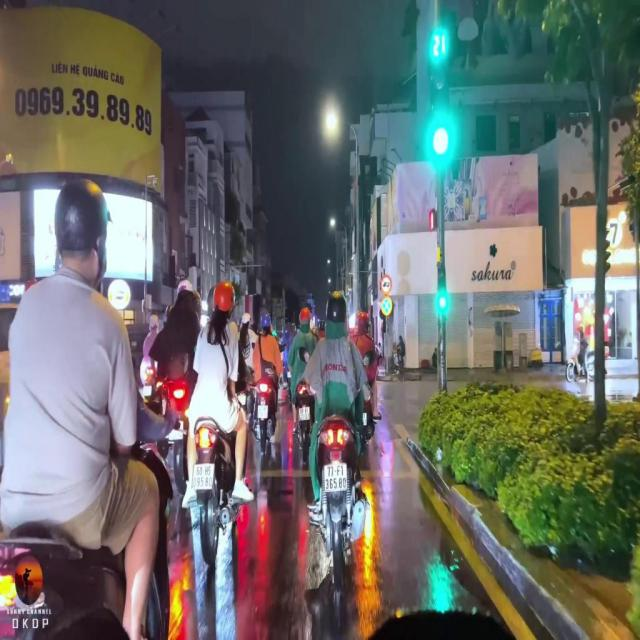cam_dung_xe_va_do_xe: (381, 296, 392, 314)
cam_o_to_tai: (381, 274, 392, 294)
